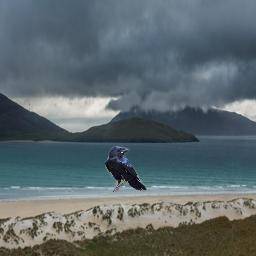Crow: (105, 146, 147, 192)
